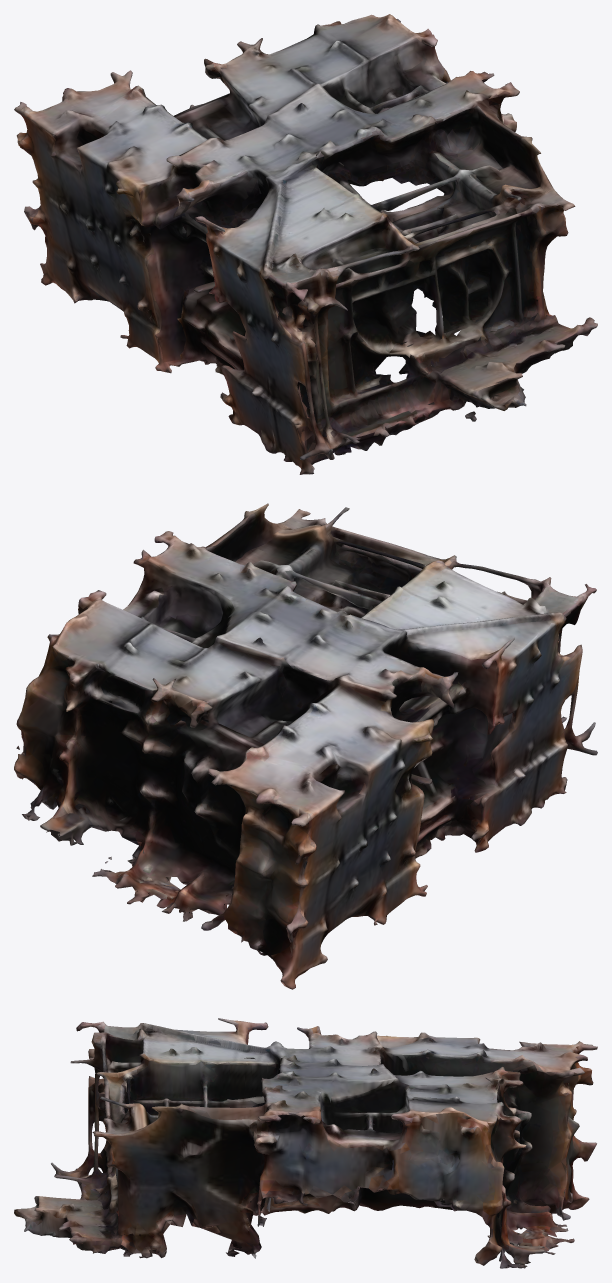
File: derelicthullblock.glb
3 renders of one model, top to bottom at view 1: azimuth 30°, elevation 25°; view 2: azimuth 150°, elevation 25°; view 3: azimuth 270°, elevation 25°, orthographic. The views are drawn at different scales.
Visible parts, largest first — view 1: input; view 2: input; view 3: input.
Part boxes in pixels (x1,y1,x2,y2): input: (14,14,597,474); input: (14,503,597,989); input: (14,1018,597,1268).
Size of the model in its own units: 0.7479 by 0.5161 by 1.2.
1 material, 1 textured.
